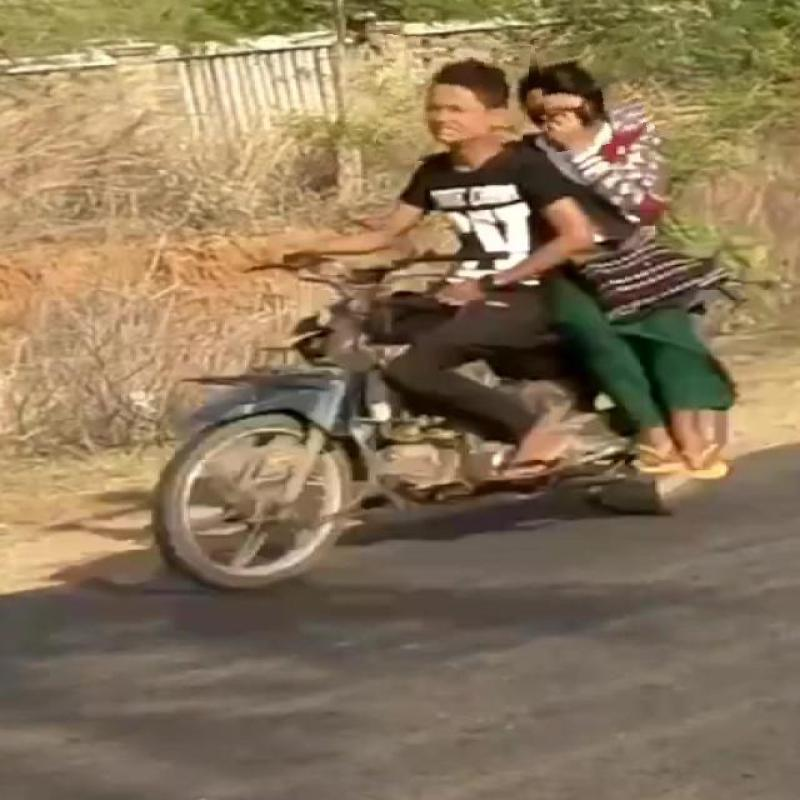nohelmet: (378, 36, 528, 168), (538, 28, 652, 150)
